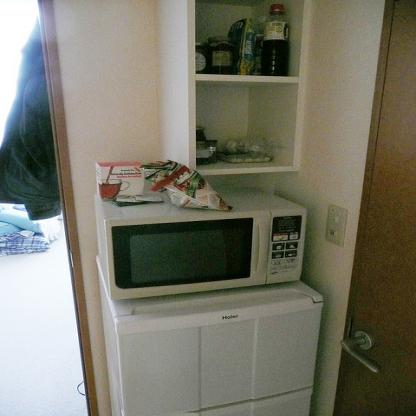handbag: (137, 157, 234, 210)
